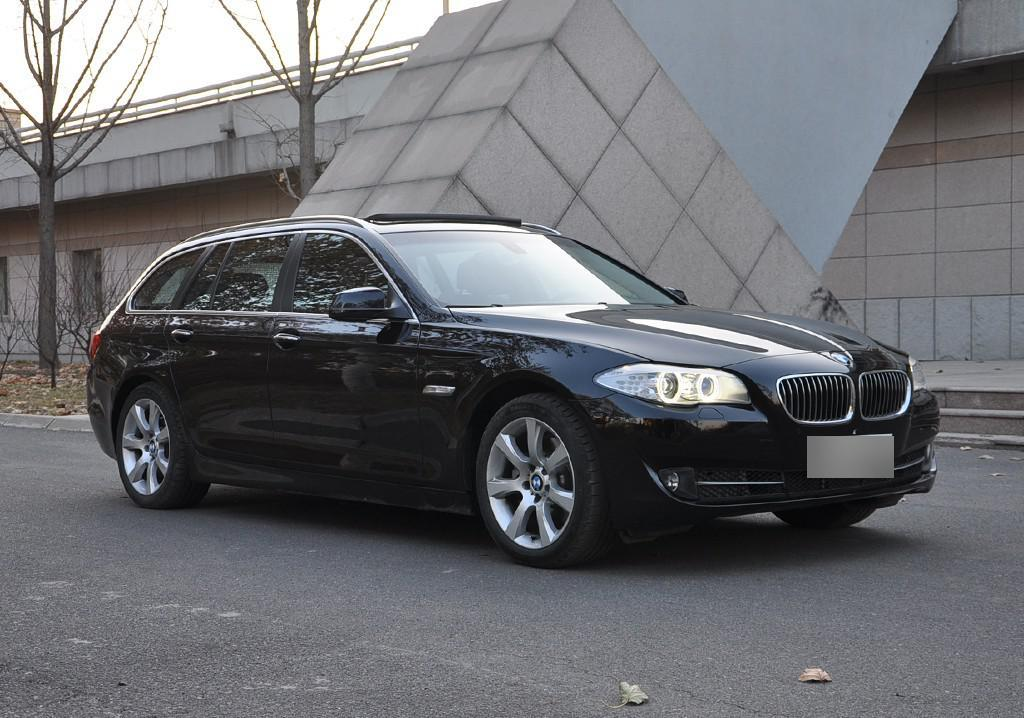Wagon: (88, 212, 943, 571)
